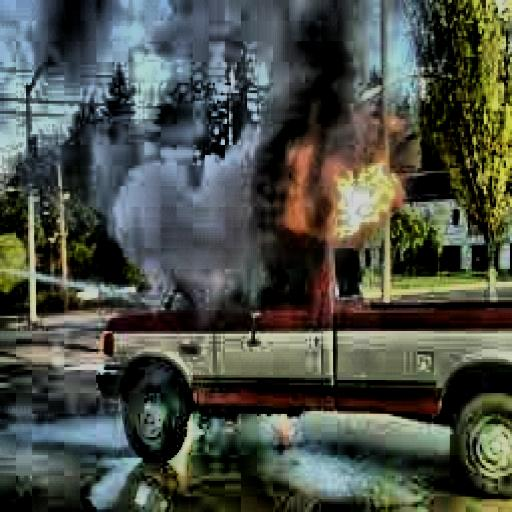fire: (263, 121, 406, 251)
